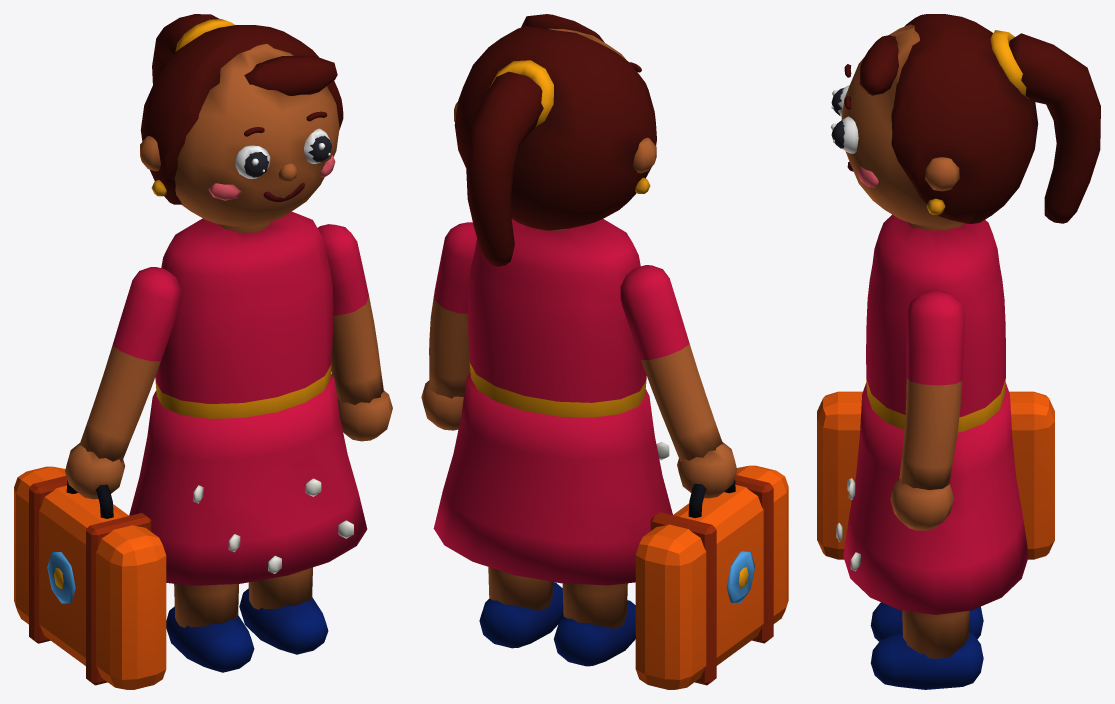
Rendered from Passenger_Mum.fbx.
3 renders of one model, left to right at view 1: azimuth 30°, elevation 25°; view 2: azimuth 150°, elevation 25°; view 3: azimuth 270°, elevation 25°, orthographic. The views are drawn at different scales.
Visible parts, largest first — view 1: Passenger_Mum, ArmR, Head, ArmL, LegR, LegL; view 2: Passenger_Mum, ArmR, Head, ArmL, LegR, LegL; view 3: Passenger_Mum, Head, ArmL, ArmR, LegL, LegR.
Boxes of the visible parts, bbox=[...] form: Passenger_Mum: bbox=[129, 211, 367, 585]; ArmR: bbox=[14, 267, 181, 689]; Head: bbox=[140, 14, 343, 226]; ArmL: bbox=[317, 224, 392, 441]; LegR: bbox=[166, 583, 254, 672]; LegL: bbox=[239, 567, 328, 654]; Passenger_Mum: bbox=[433, 219, 672, 585]; ArmR: bbox=[620, 265, 788, 689]; Head: bbox=[454, 14, 656, 266]; ArmL: bbox=[421, 222, 476, 430]; LegR: bbox=[554, 583, 635, 666]; LegL: bbox=[479, 567, 563, 648]; Passenger_Mum: bbox=[836, 214, 1028, 614]; Head: bbox=[830, 14, 1100, 226]; ArmL: bbox=[890, 291, 965, 530]; ArmR: bbox=[817, 391, 1054, 559]; LegL: bbox=[870, 610, 983, 689]; LegR: bbox=[870, 602, 983, 641].
Size of the model in its own units: 0.6566 by 1.19 by 0.4771.
